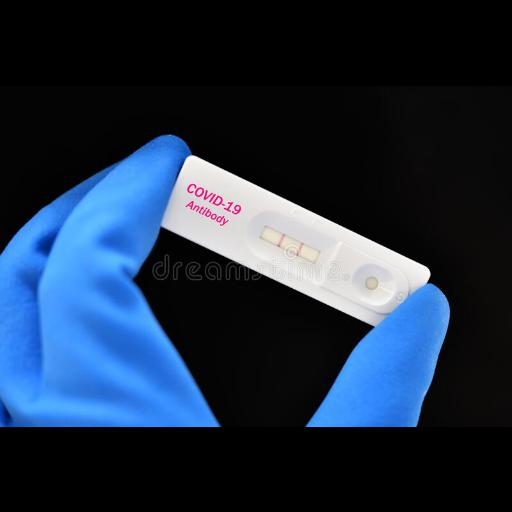Pos: (156, 150, 432, 336)
